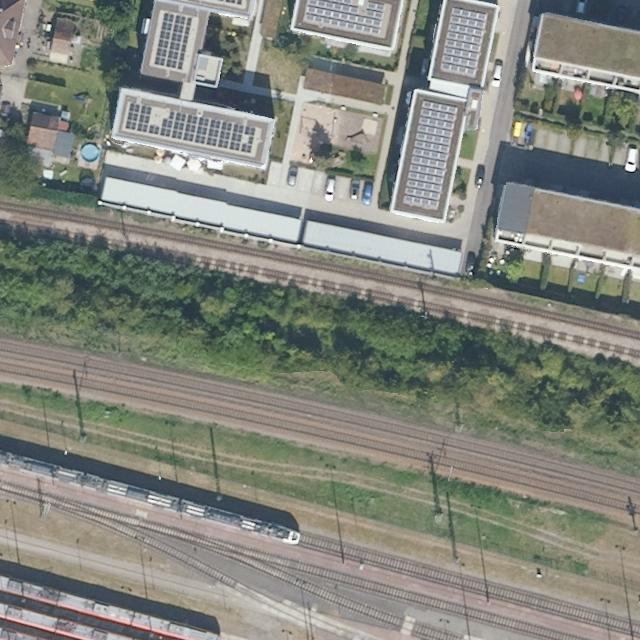PV: (122, 101, 260, 157), (399, 98, 461, 215), (438, 5, 491, 81), (303, 0, 387, 37), (151, 9, 195, 73)
